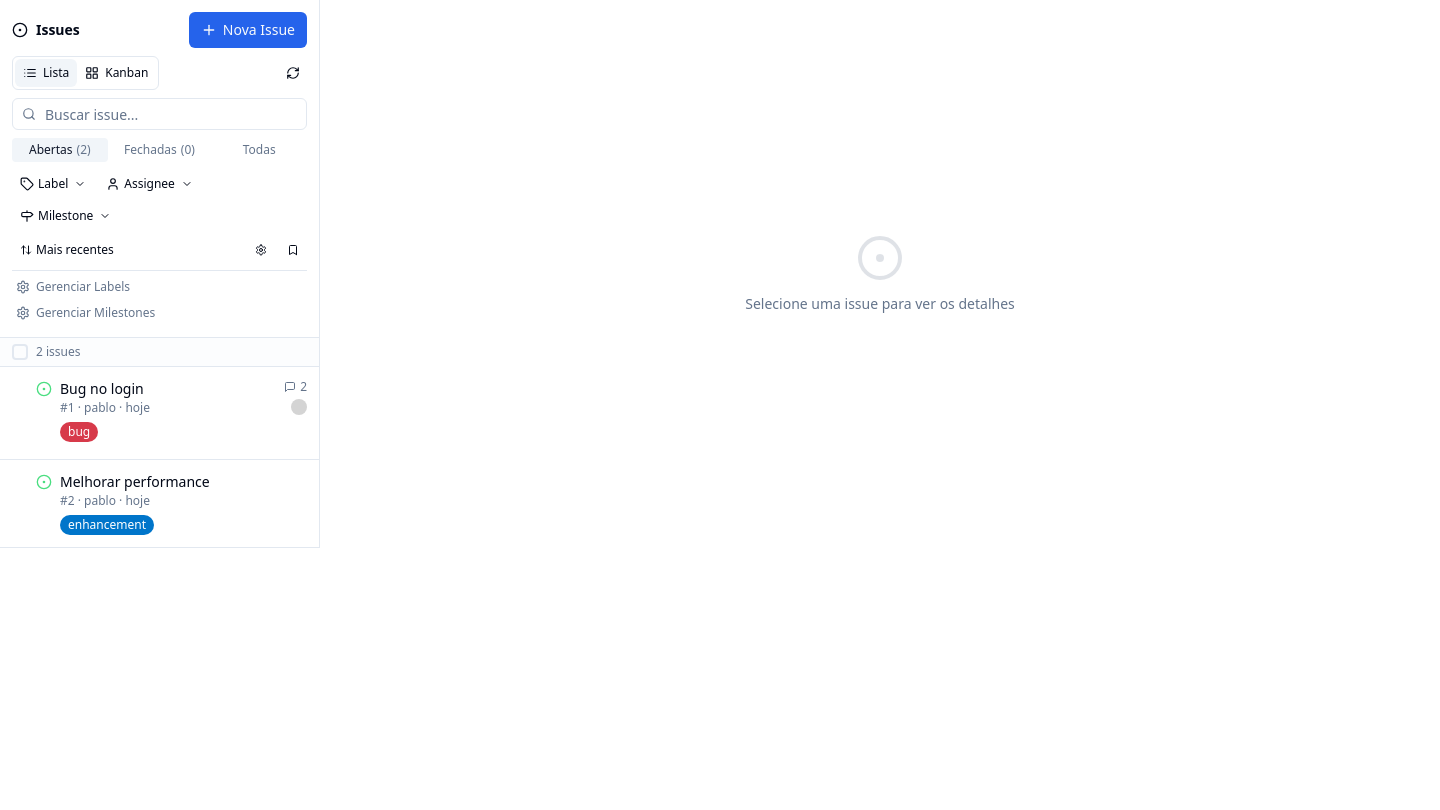
Test: IssuesManager › comentários › exibe comentários da issue
This screenshot has width=1440, height=810.
Click the text "Bug no login" at (102, 389), box 60,379 -> 144,398
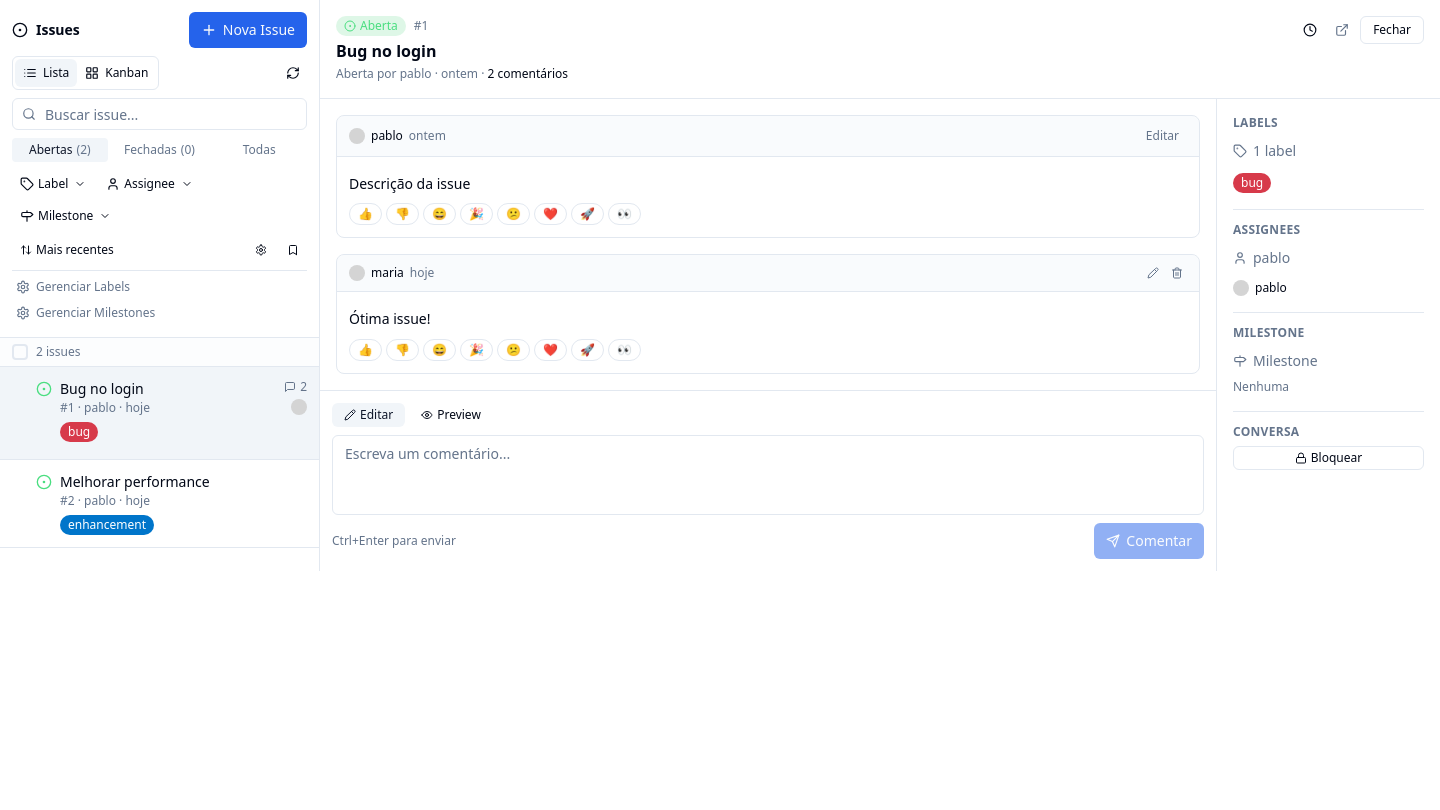
Expected: the text "Ótima issue!" is shown, 349,309 -> 430,328
Expected: the text "maria" is shown, 371,265 -> 404,281
